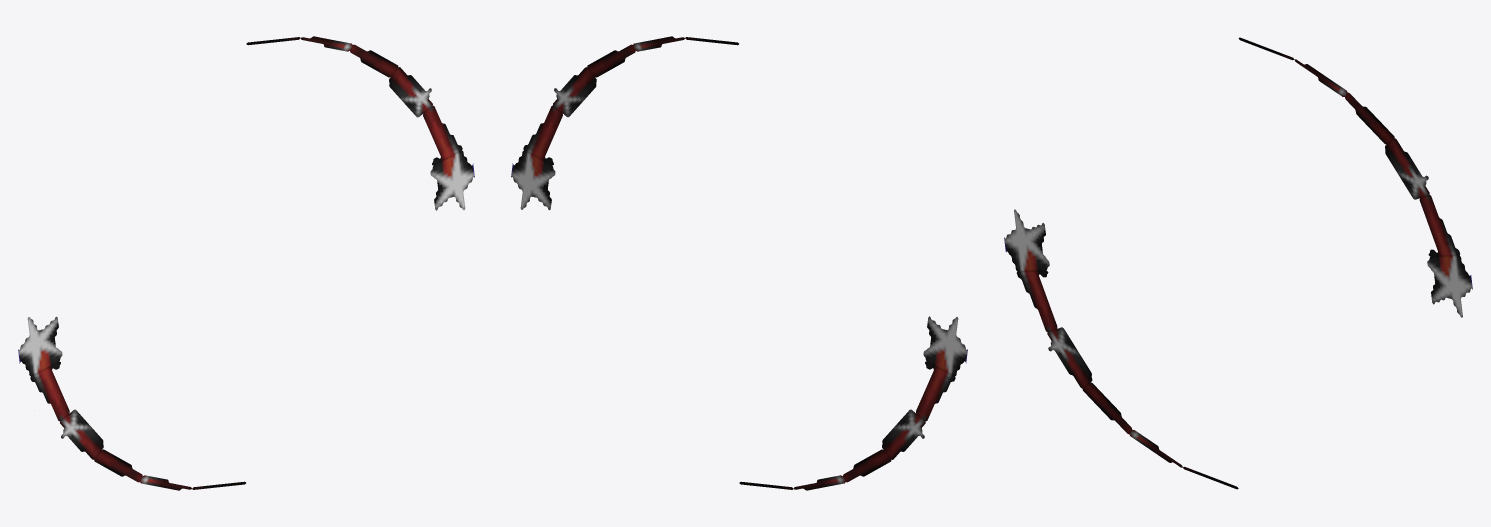
3 renders of one model, left to right at view 1: azimuth 30°, elevation 25°; view 2: azimuth 150°, elevation 25°; view 3: azimuth 330°, elevation 25°, orthographic. The views are drawn at different scales.
Visible parts, largest first — view 1: T1L5M002_15; view 2: T1L5M002_15; view 3: T1L5M002_15.
Part boxes in pixels (x1=…): T1L5M002_15: x1=18, y1=36, x2=474, y2=490; T1L5M002_15: x1=511, y1=36, x2=967, y2=490; T1L5M002_15: x1=1004, y1=37, x2=1472, y2=489.
Size of the model in its own units: 2.06 by 2.06 by 0.000977.
